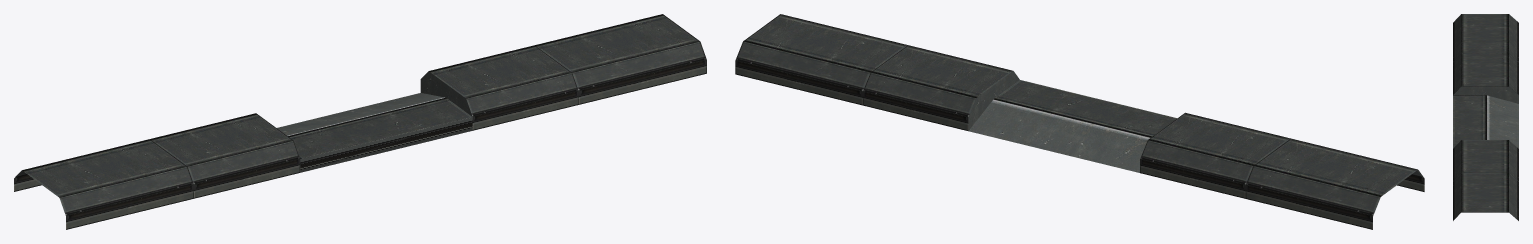
The model's file is Neon_CarRailBend_OffRamp.FBX.
The picture shows the model from 3 angles, left to right: view 1: azimuth 30°, elevation 25°; view 2: azimuth 150°, elevation 25°; view 3: azimuth 270°, elevation 25°; orthographic projection. The views are drawn at different scales.
Visible parts, largest first — view 1: Neon_CarRailBend_OffRamp; view 2: Neon_CarRailBend_OffRamp; view 3: Neon_CarRailBend_OffRamp.
Boxes of the visible parts, box(x1,y1,x2,y2) form: Neon_CarRailBend_OffRamp: box(14, 14, 706, 229); Neon_CarRailBend_OffRamp: box(735, 14, 1424, 229); Neon_CarRailBend_OffRamp: box(1453, 14, 1518, 220).
Bounding box in the file's own units: 12.53 × 0.5142 × 1.76.
